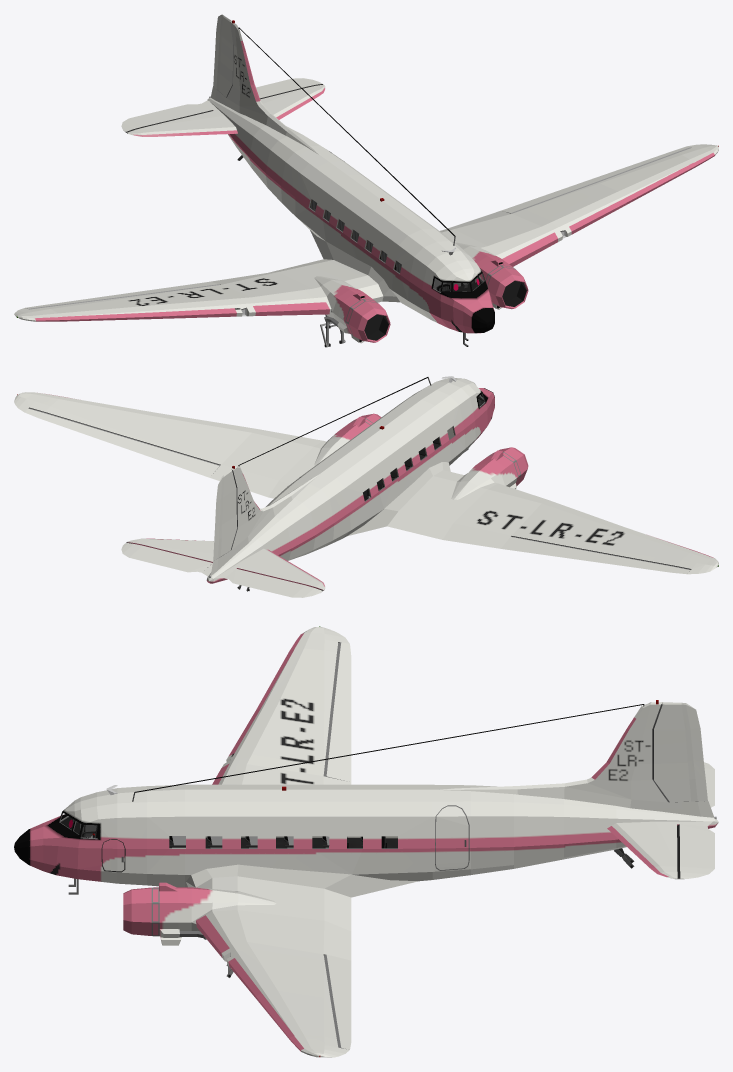
The model's file is dc-3_stlre2.obj.
3 views of the same model, one above another, from view 1: azimuth 30°, elevation 25°; view 2: azimuth 150°, elevation 25°; view 3: azimuth 270°, elevation 25° (orthographic). The views are drawn at different scales.
Visible parts, largest first — view 1: body, wings.001, tail, engines, elevator, under, rud, wings, aileronL, aileronR, in; view 2: wings.001, body, tail, engines, elevator, aileronL, aileronR, rud, wings, under, in; view 3: body, wings.001, tail, engines, rud, wings, aileronR, elevator, doormain, aileronL, in, under (+1 smaller).
Part boxes in pixels (box(x1,y1,x2,y2)): body: box(207, 97, 494, 333); wings.001: box(14, 144, 718, 321); tail: box(127, 21, 325, 155); engines: box(314, 242, 528, 343); elevator: box(121, 78, 322, 132); under: box(220, 27, 526, 346); rud: box(213, 14, 233, 97); wings: box(310, 230, 399, 302); aileronL: box(501, 146, 690, 213); aileronR: box(25, 281, 219, 309); in: box(308, 198, 484, 292); wings.001: box(14, 392, 718, 574); body: box(206, 378, 494, 583); tail: box(127, 466, 325, 590); engines: box(314, 413, 528, 499); elevator: box(121, 542, 323, 597); aileronL: box(25, 408, 220, 477); aileronR: box(501, 536, 690, 574); rud: box(213, 469, 237, 560); wings: box(348, 462, 450, 535); under: box(29, 376, 691, 569); in: box(363, 393, 485, 501); body: box(14, 784, 718, 887); wings.001: box(196, 627, 351, 1057); tail: box(439, 702, 714, 879); engines: box(123, 882, 276, 945); rud: box(652, 702, 707, 802); wings: box(186, 864, 417, 897); aileronR: box(323, 642, 351, 781); elevator: box(677, 762, 714, 879); doormain: box(435, 806, 468, 869); aileronL: box(324, 954, 351, 1049); in: box(59, 813, 397, 848); under: box(68, 642, 644, 954).
Bounding box in the file's own units: 28.22 × 7.04 × 19.56.
